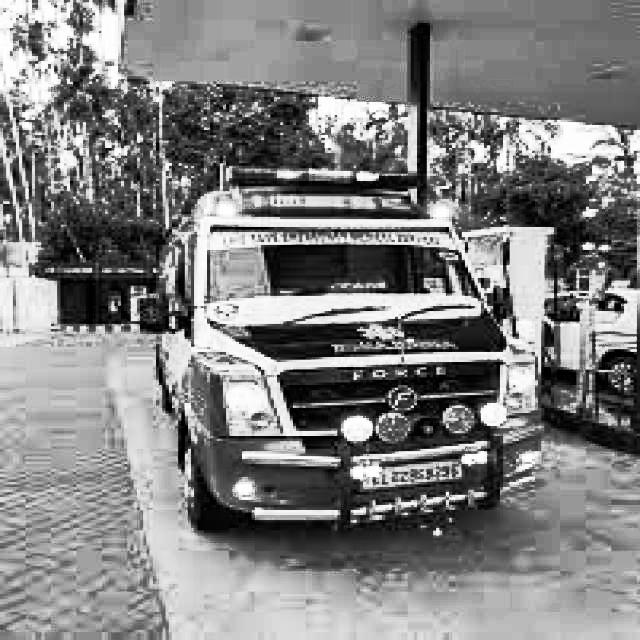LCV: (178, 165, 543, 517)
